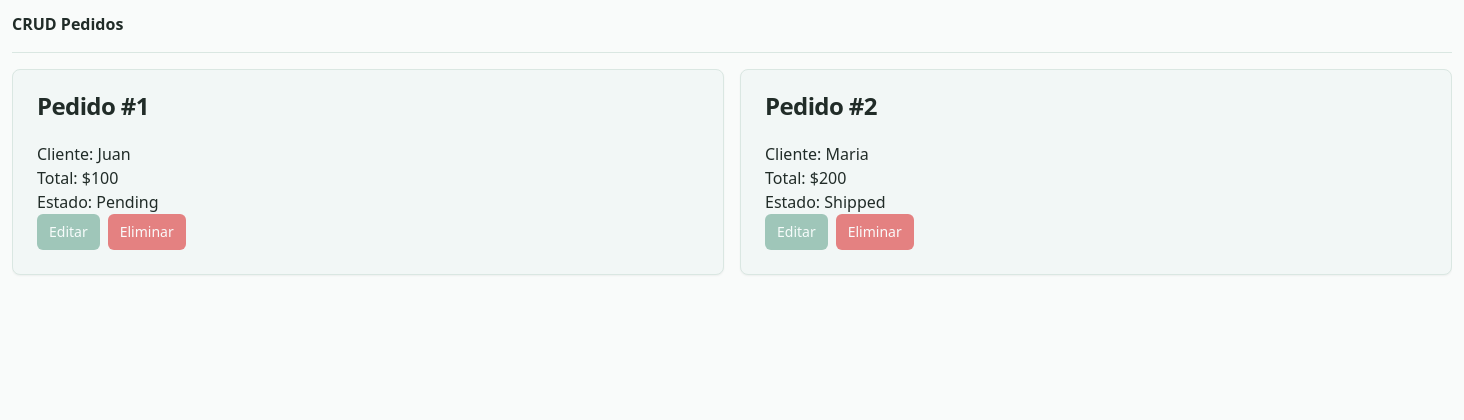
OrdersSection › debe abrir formulario de edición al hacer click en editar
Expected: the heading "Pedido #1" is shown, [37,89,149,122]
Click the button "Editar" below "Pending".
click(68, 232)  # box [37,214,100,250]
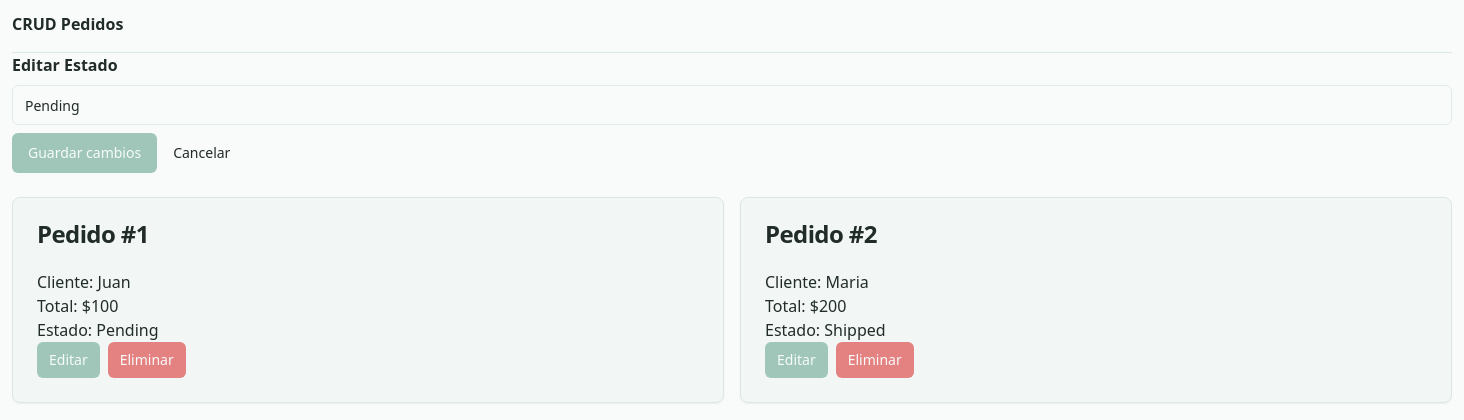
Now the heading "Editar Estado" is shown, box [12,54,118,76]
Now the field showing "Pending" is shown, box [12,85,1452,125]
